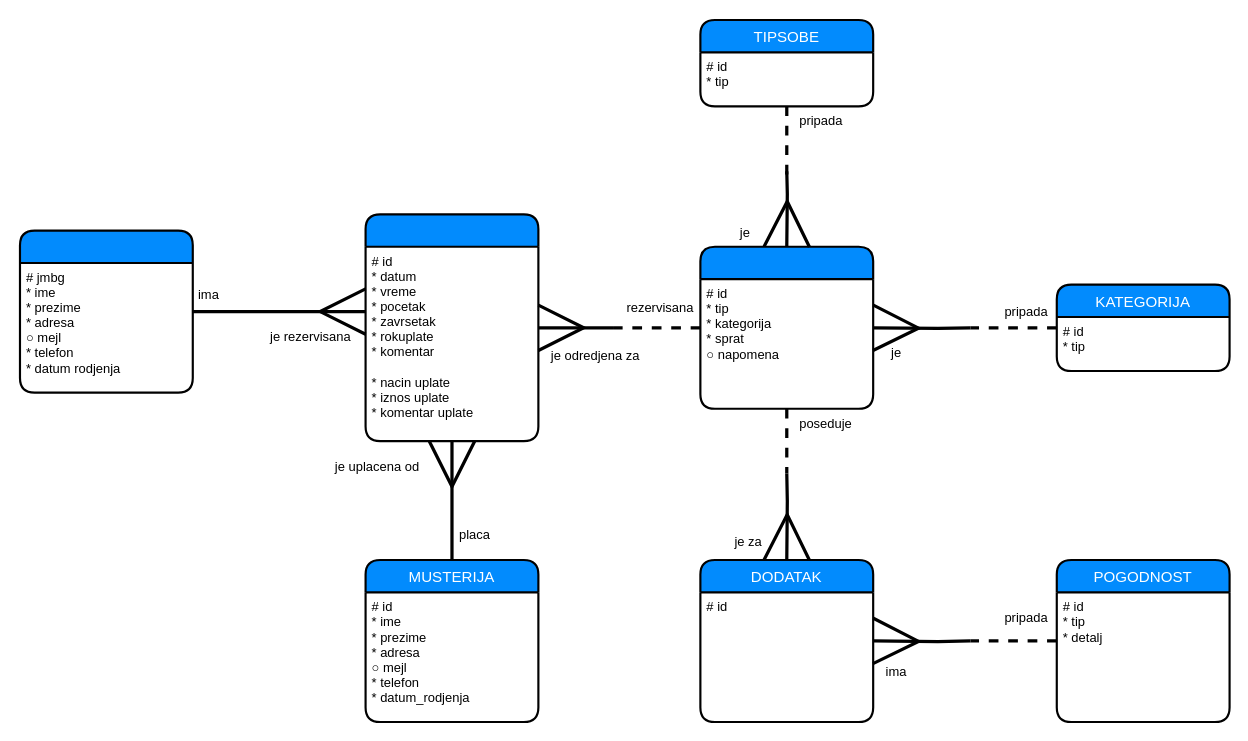
Image size: 1248x741. Some labels were removed from this diagram. Here are the shapes that lost their labels. From the top down, the box of each, then its label:
(18, 229, 193, 393): GOST
(364, 213, 539, 442): REZERVACIJA
(699, 245, 874, 409): SOBA
